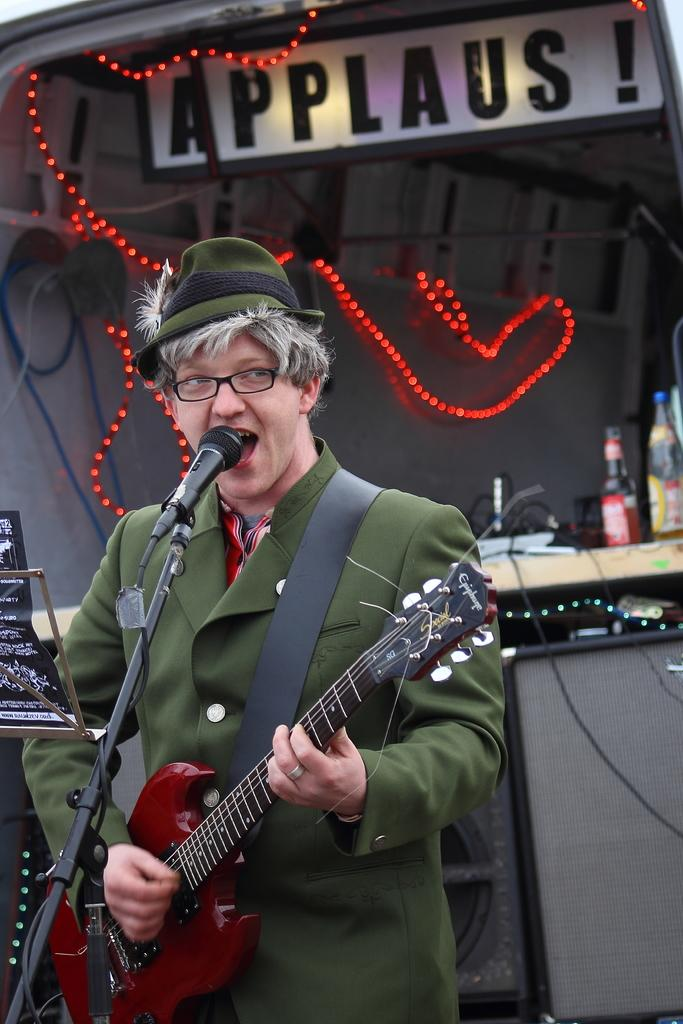Hat: (127, 234, 322, 378)
